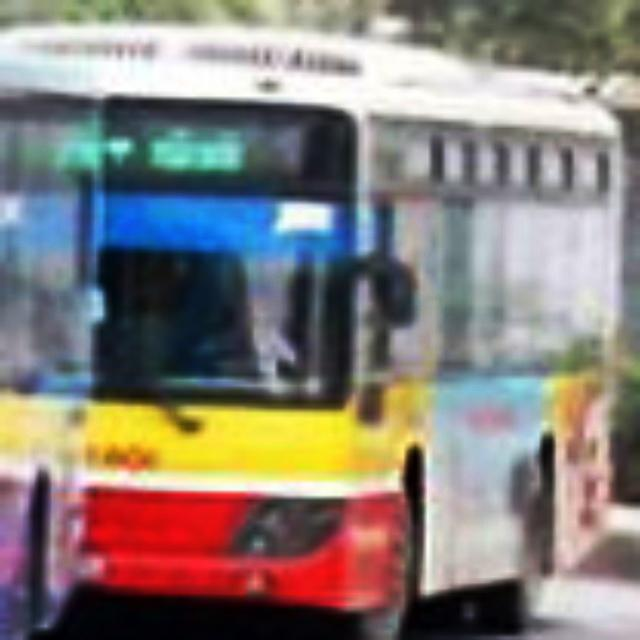Car: (0, 20, 626, 639)
